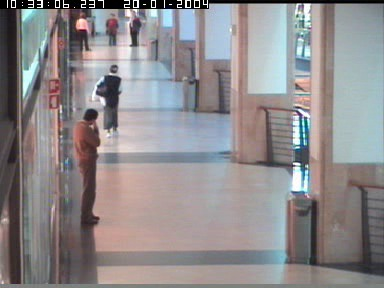person: (73, 108, 100, 225), (90, 64, 122, 138), (76, 13, 90, 51), (105, 13, 119, 47), (129, 12, 142, 46)
